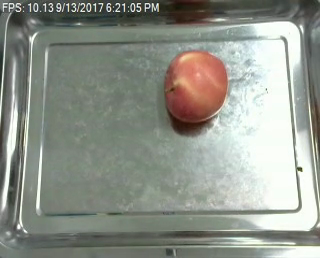Apple: (159, 48, 232, 126)
